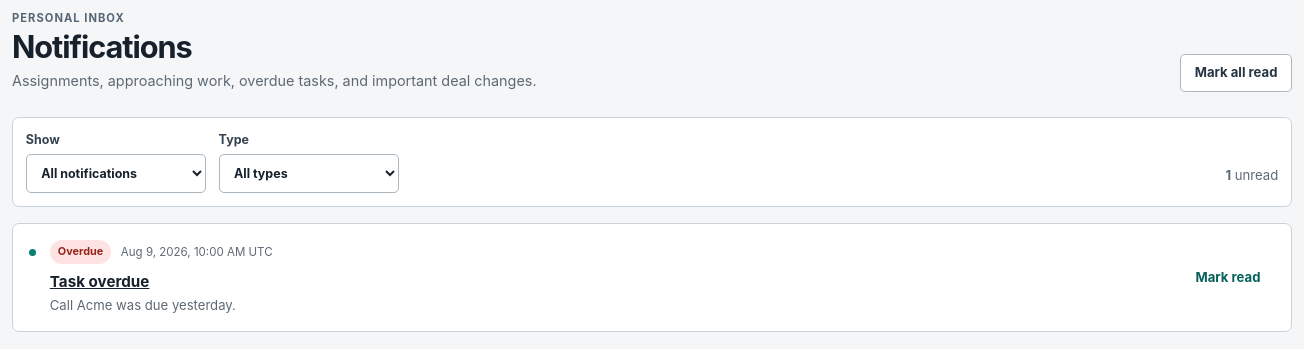
lists personal notifications and marks one read
expect the text "Call Acme was due yesterday." is shown: met, box top-left (50, 297), bottom-right (236, 313)
Click the button "Mark read". click: (1228, 278)
box: top-left (1181, 240), bottom-right (1275, 315)
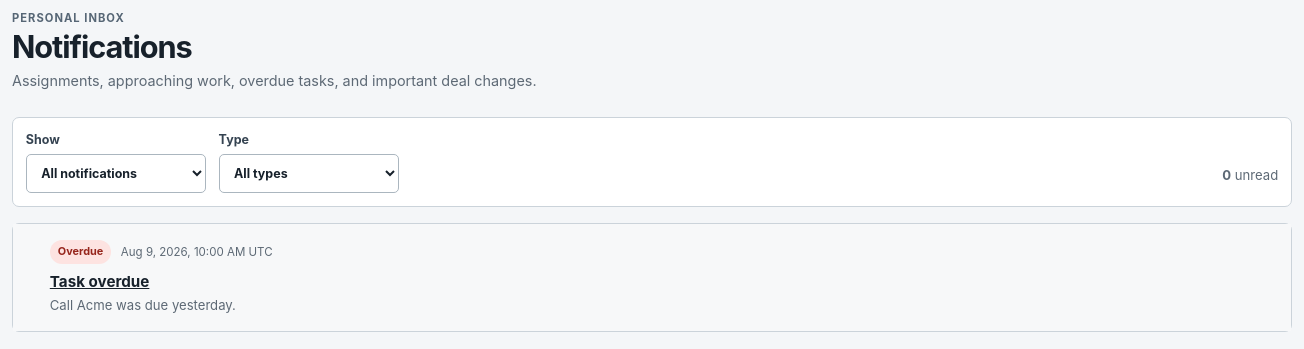
expect the button "Mark read" is gone: met
